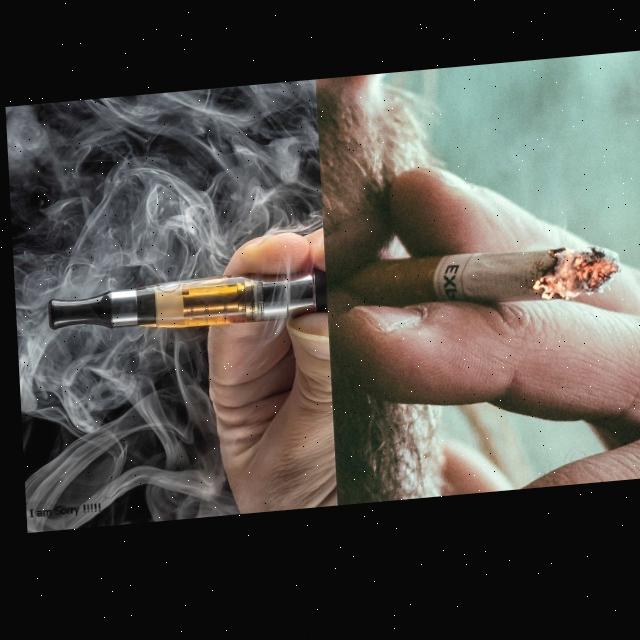cigarette: (345, 248, 617, 325)
vape: (45, 276, 324, 344)
